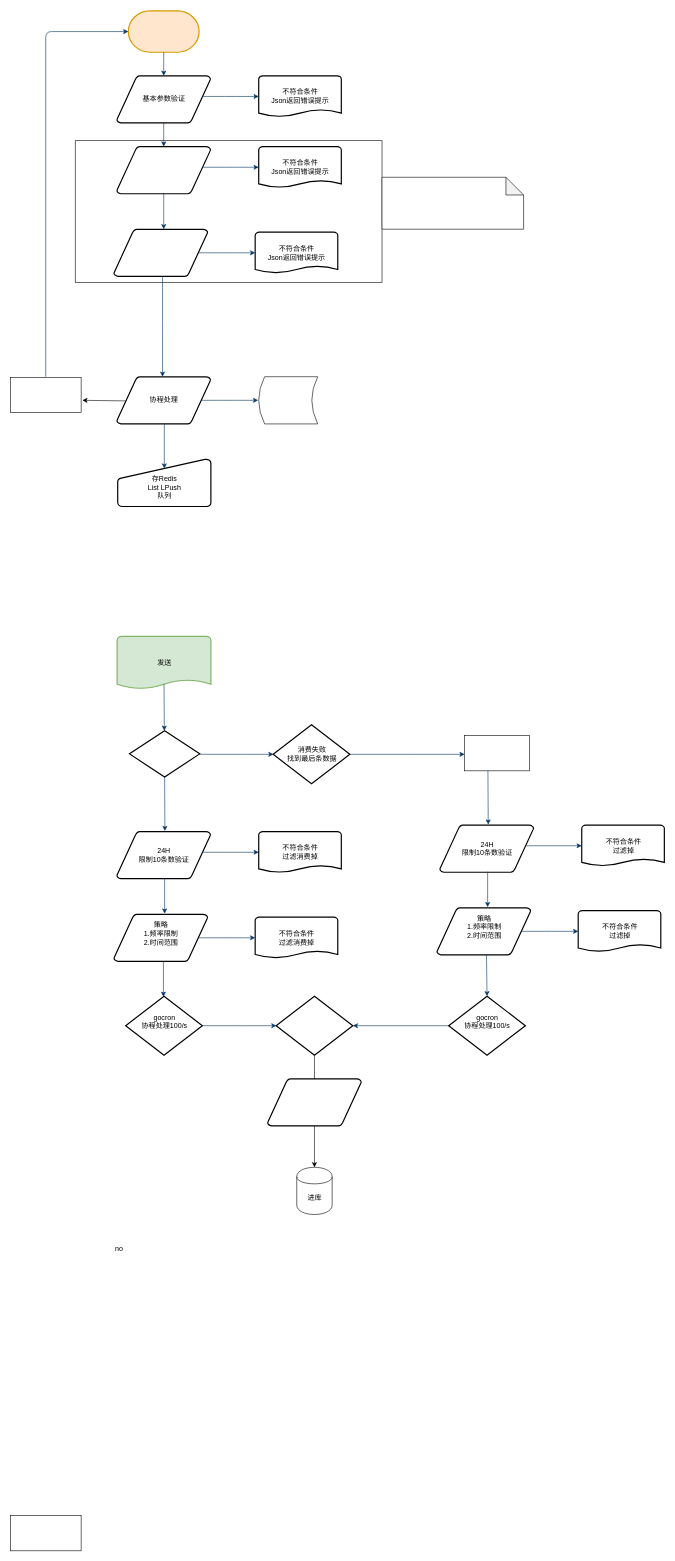
The diagram is 675 pixels wide and 1561 high, and some of its shapes have lost their labels. Each missing label, with the box of its shape:
24H(1day) 限制10条数验证: (116, 146, 211, 194)
Redis List RPop 消费: (129, 730, 200, 777)
发送成功: (275, 995, 353, 1056)
存文件 Json: (258, 376, 318, 424)
开启gocron 检索文件未发送 短息游标位置 继续发送: (464, 735, 530, 771)
接收数据成功 返回Json: (10, 377, 81, 413)
短信Http请求/相应: (127, 10, 199, 53)
策略频率限制: (113, 228, 208, 277)
记录号码条数 Redis Inc 策略频率记录: (267, 1078, 362, 1126)
这两步是否加验证 加的原因可以返回错误提示 消费时可以不用再加策略验证 不加的话可以在消费加策略: (381, 177, 524, 229)
